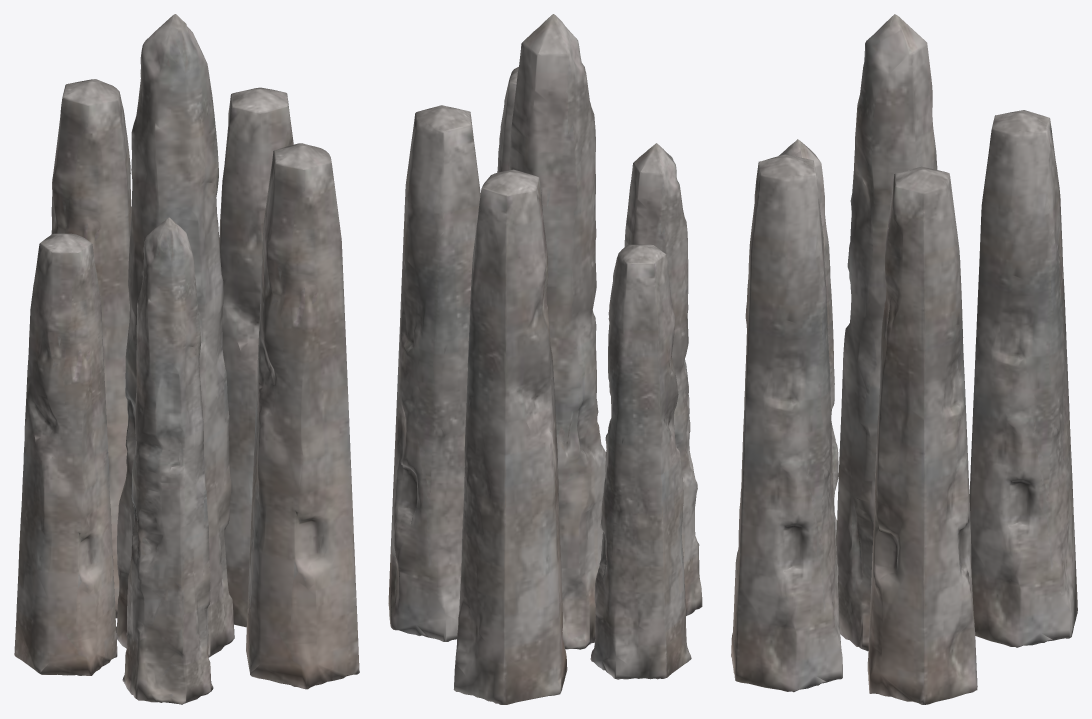
The model's file is SM_stalagmite_04.glb.
The picture shows the model from 3 angles, left to right: view 1: azimuth 30°, elevation 25°; view 2: azimuth 150°, elevation 25°; view 3: azimuth 270°, elevation 25°; orthographic projection.
Parts seen in each view (by area): view 1: SM_stalactic_04; view 2: SM_stalactic_04; view 3: SM_stalactic_04.
Part boxes in pixels (x1,y1,x2,y2): SM_stalactic_04: (14, 14, 359, 704); SM_stalactic_04: (388, 14, 702, 704); SM_stalactic_04: (731, 14, 1077, 704).
Size of the model in its own units: 3.34 by 6.87 by 3.49.
1 material, 1 textured.
